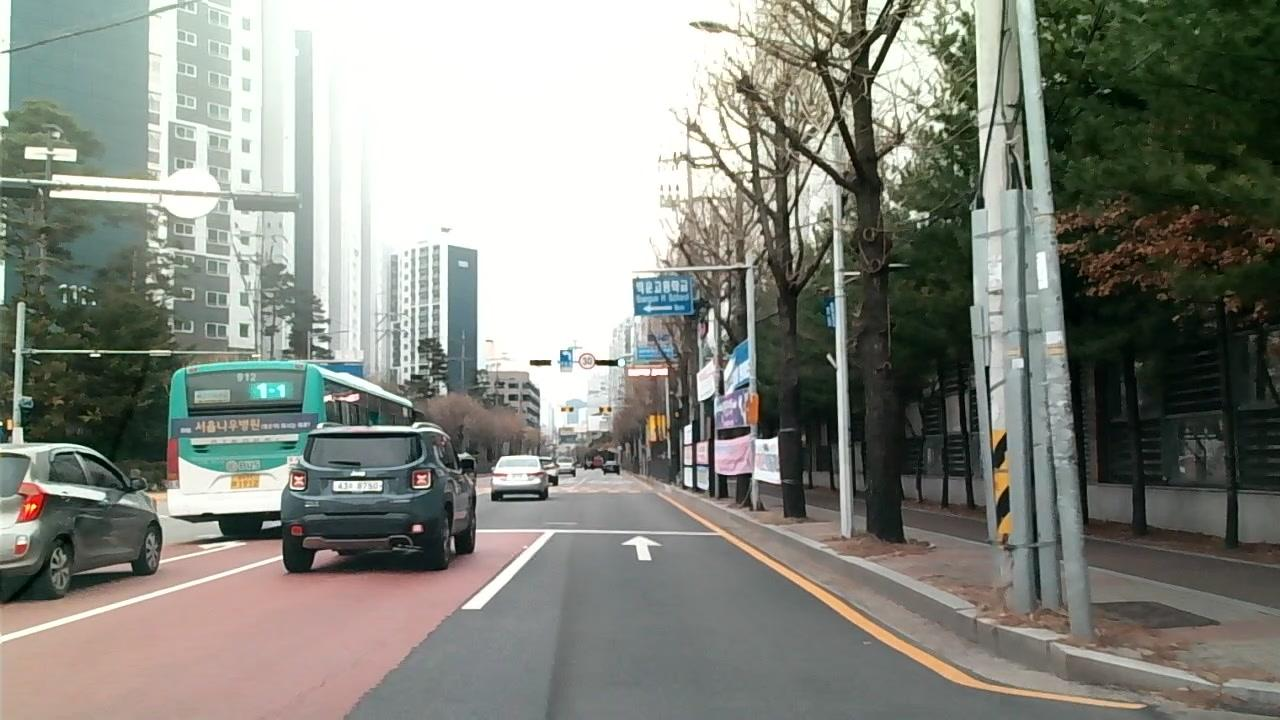banner: (708, 340, 758, 387), (709, 390, 761, 429), (711, 432, 754, 475), (749, 434, 782, 482), (688, 360, 715, 402), (688, 464, 713, 487), (691, 439, 712, 462)
